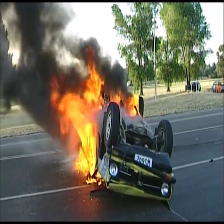fire_h: (49, 45, 105, 176), (123, 92, 141, 116)
fire_l: (85, 172, 102, 185), (108, 90, 122, 105)
